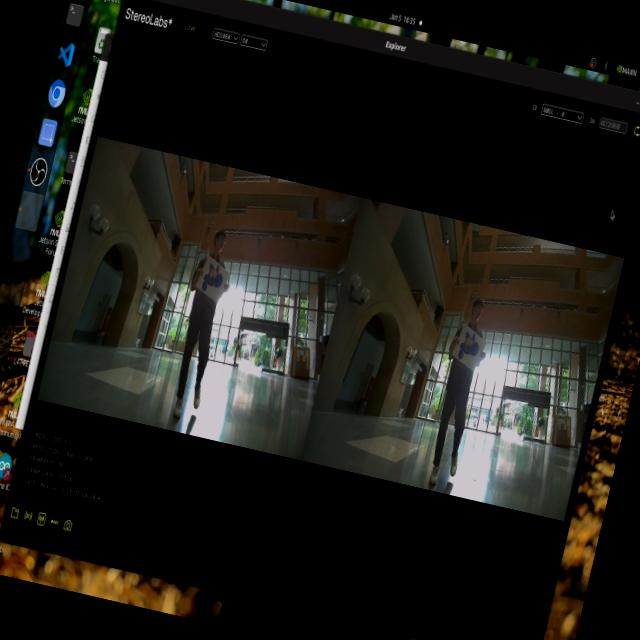blue: (188, 254, 232, 306), (448, 324, 486, 366)
